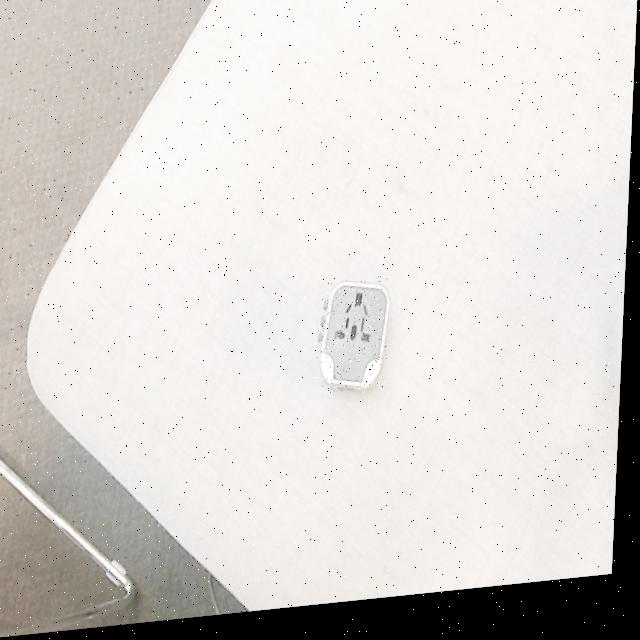adapter: (318, 283, 394, 402)
